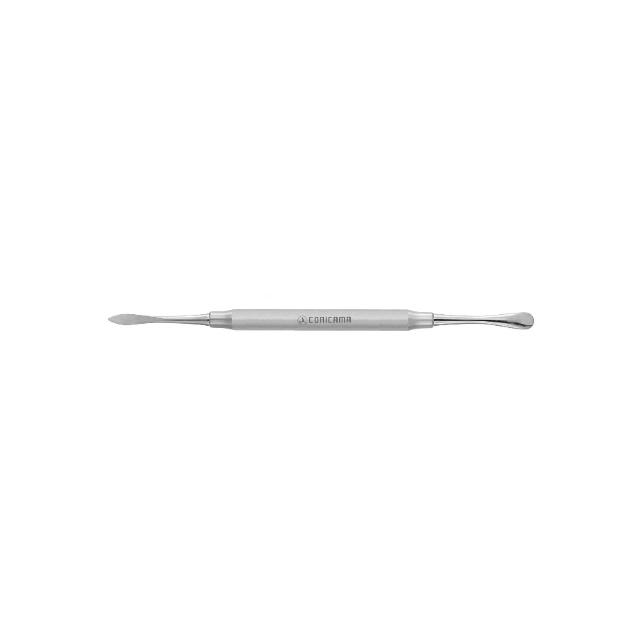elevador: (106, 305, 536, 335)
